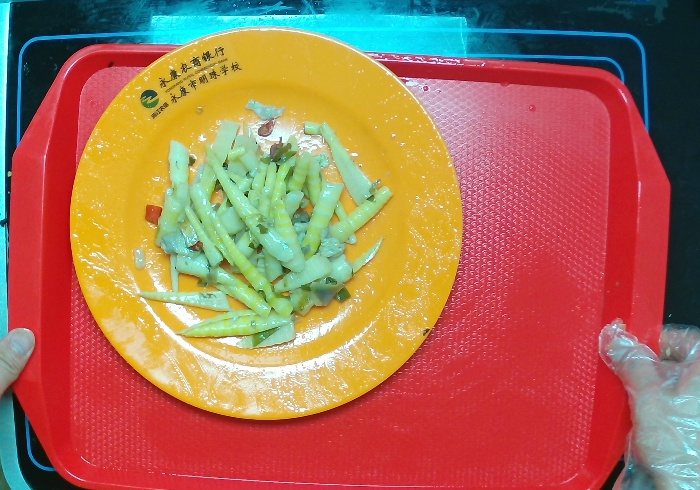YKMZ-Ju_Se_Mian_Pan: (61, 25, 469, 427)
